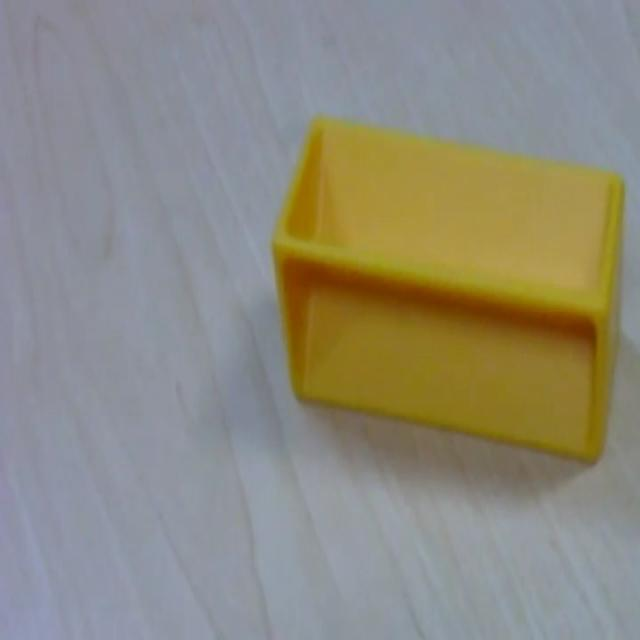yellow_block: (270, 111, 625, 465)
